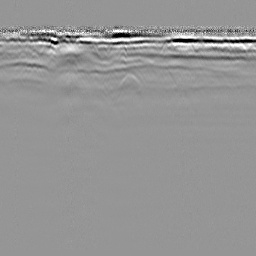cavity: (117, 70, 141, 88)
